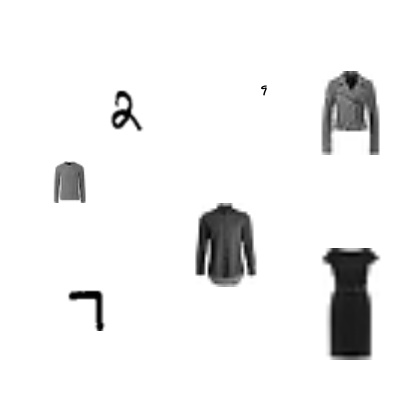2: (95, 83, 151, 139)
7: (63, 275, 119, 331)
9: (257, 82, 271, 96)
Coat: (307, 71, 391, 155)
Dress: (295, 248, 407, 360)
Pullover: (48, 161, 90, 203), (302, 253, 316, 267)
Shirt: (184, 203, 268, 287)
